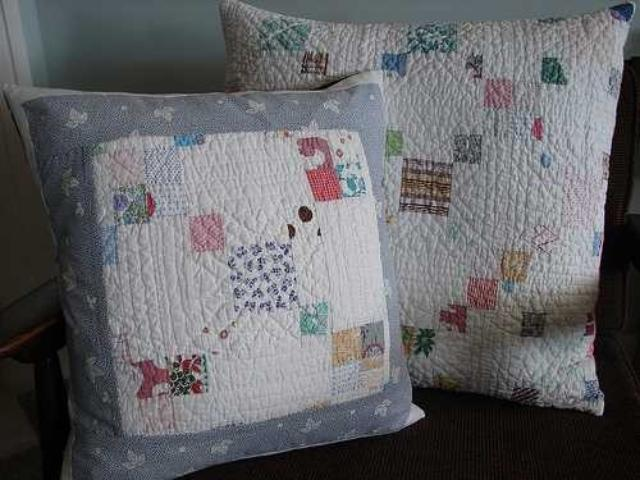pillow: (216, 0, 636, 416), (2, 71, 422, 479)
